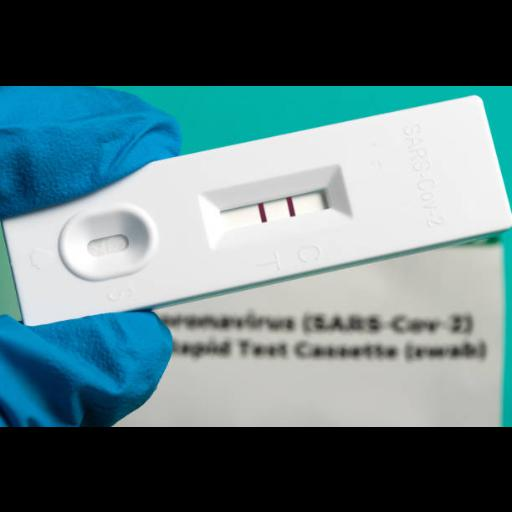Pos: (0, 94, 512, 329)
